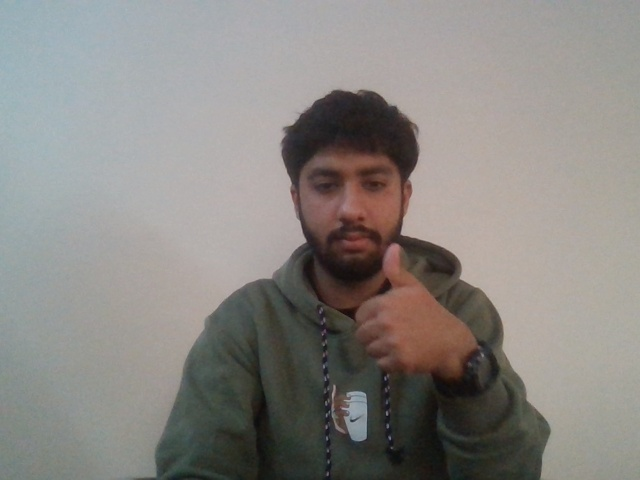Yes: (342, 243, 459, 380)
